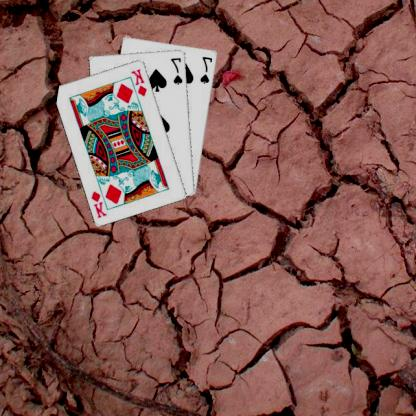7S: (170, 54, 186, 86), (200, 54, 216, 85)
KD: (130, 66, 151, 98), (90, 188, 110, 219)
